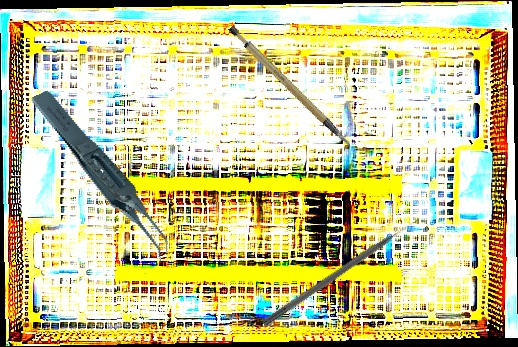Pusher: (261, 217, 420, 329)
Scalpel Handle: (226, 11, 353, 165)
Tissue Forceps: (29, 71, 175, 284)
